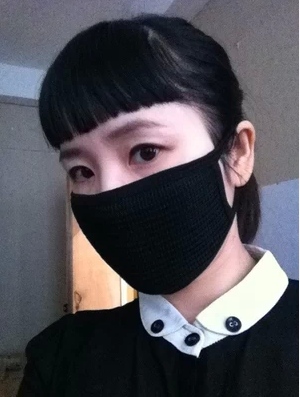face_mask: (61, 80, 217, 292)
